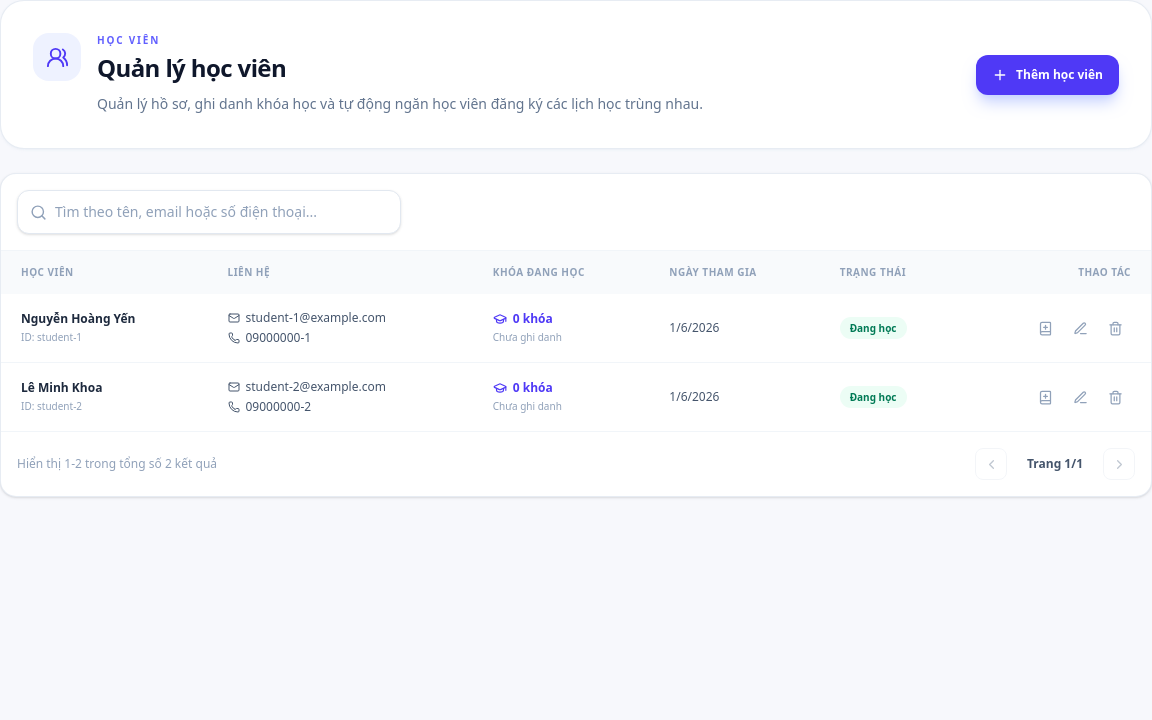
Scenario: StudentsPage › tìm kiếm tiếng Việt ngay khi gõ, không phân biệt hoa thường
Type "nGUYỄN HOÀNG yẾN" into the search field with placeholder "Tìm theo tên, email hoặc số điện thoại..." at (222, 212), box [55,202,388,222]
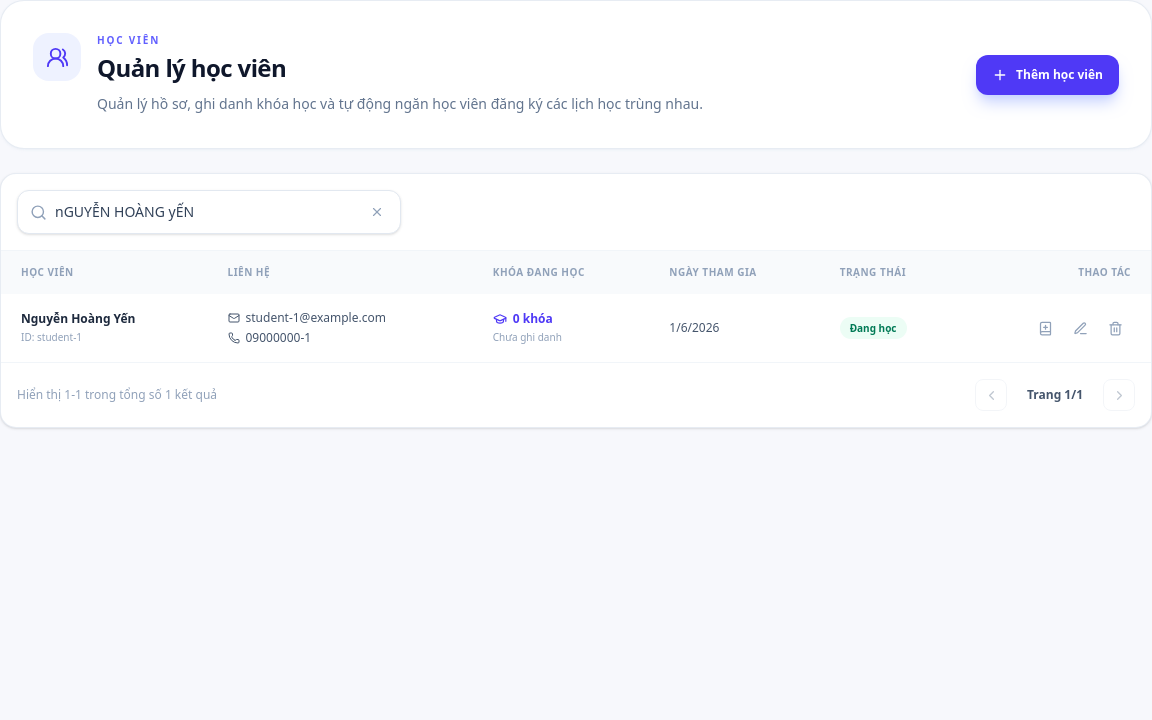
Expected: the text "Nguyễn Hoàng Yến" is shown, [21,310,136,327]
Result: the text "Lê Minh Khoa" is gone
Result: the text "Hiển thị 1-1 trong tổng số 1 kết quả" is shown at [17,387,217,403]
